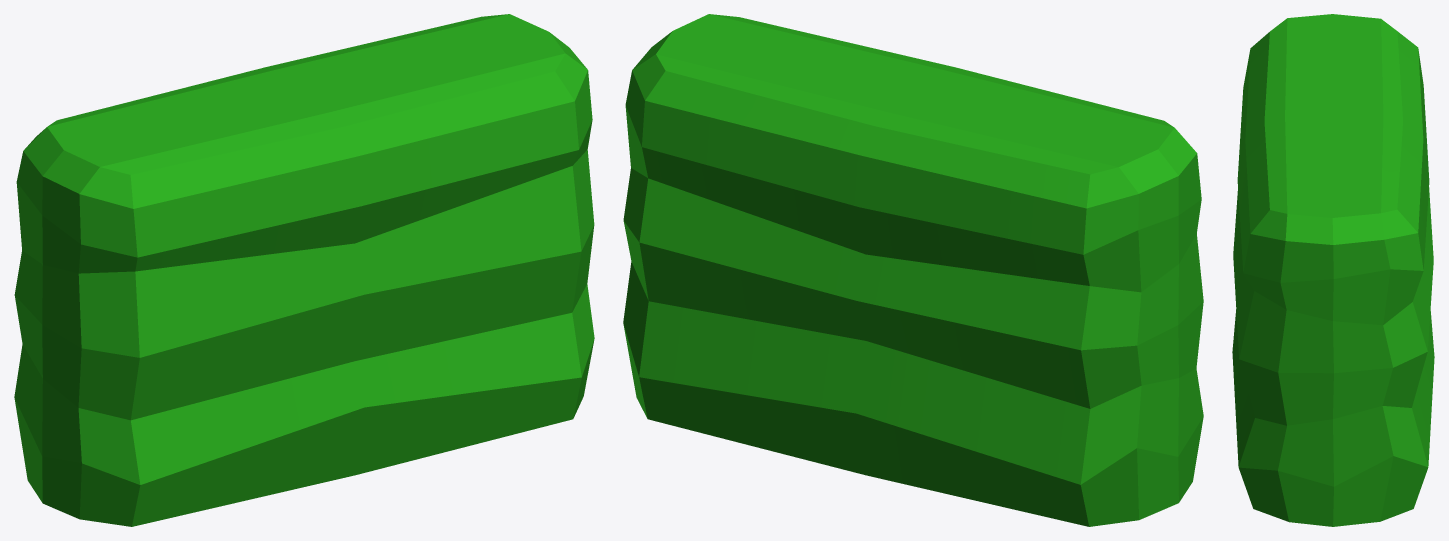
File: Hedge_Long.fbx
3 renders of one model, left to right at view 1: azimuth 30°, elevation 25°; view 2: azimuth 150°, elevation 25°; view 3: azimuth 270°, elevation 25°, orthographic. The views are drawn at different scales.
Parts seen in each view (by area): view 1: Long_Hedge; view 2: Long_Hedge; view 3: Long_Hedge.
Boxes of the visible parts, x1=… form: Long_Hedge: x1=14, y1=14, x2=594, y2=526; Long_Hedge: x1=623, y1=14, x2=1203, y2=526; Long_Hedge: x1=1232, y1=14, x2=1434, y2=526.
Bounding box in the file's own units: 654 × 413 × 252.
